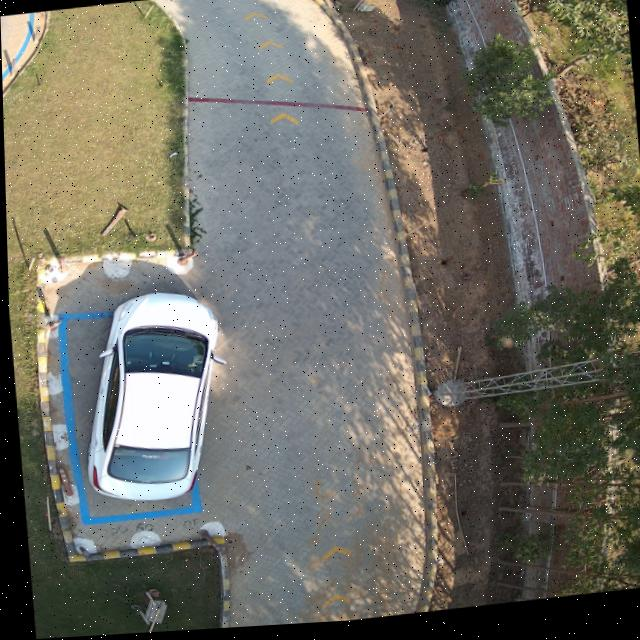car: (83, 294, 216, 503)
